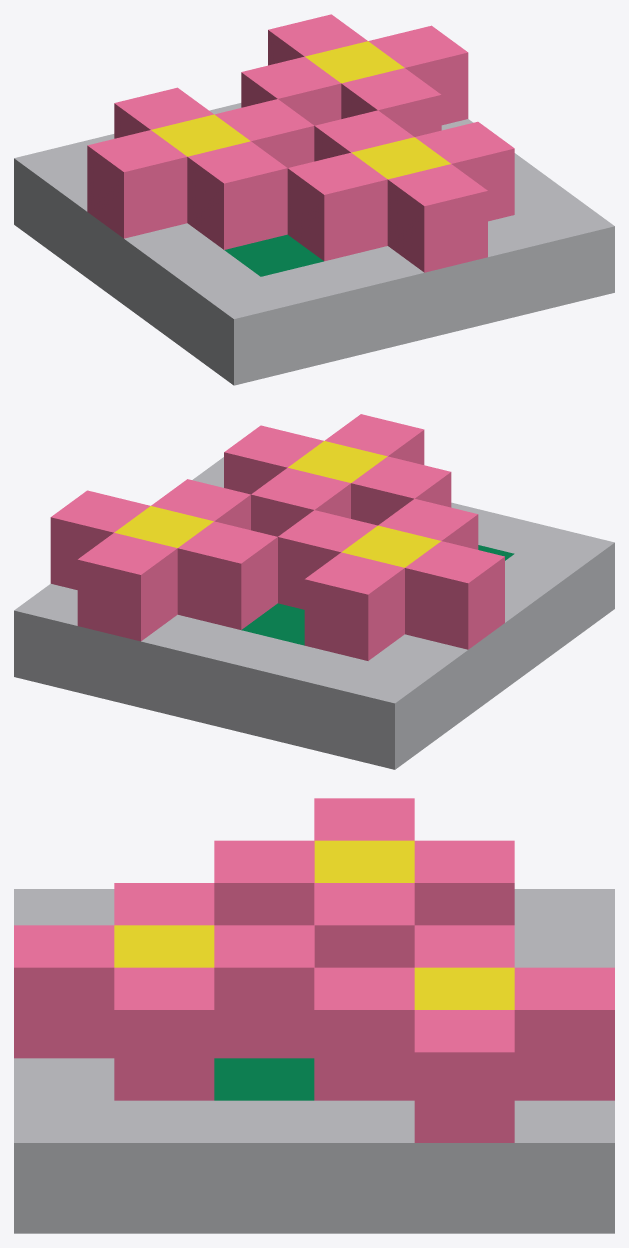
The model's file is sidewalk_garden.obj.
3 views of the same model, one above another, from view 1: azimuth 30°, elevation 25°; view 2: azimuth 150°, elevation 25°; view 3: azimuth 270°, elevation 25° (orthographic). The views are drawn at different scales.
Size of the model in its own units: 0.6 by 0.2 by 0.6.
Materials: 1 (1 with a texture image).
